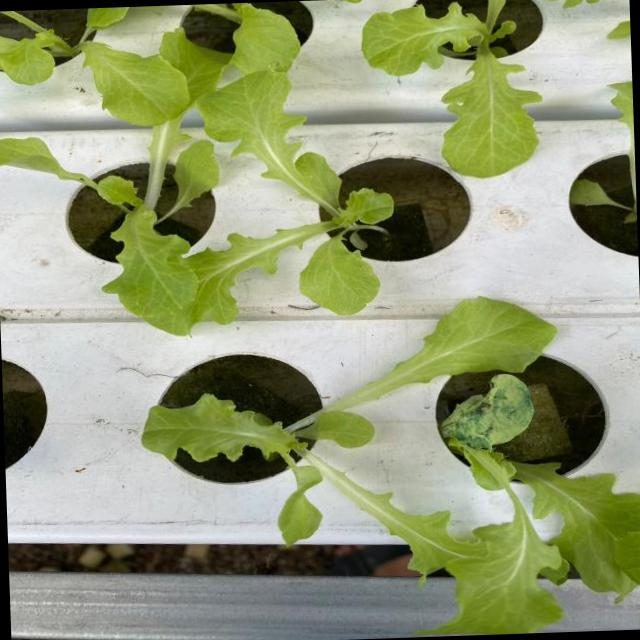Lettuce-Not-Ready-to-Harvest: (131, 302, 567, 588), (115, 68, 396, 324), (0, 22, 231, 286), (421, 421, 640, 636), (358, 0, 549, 188)
